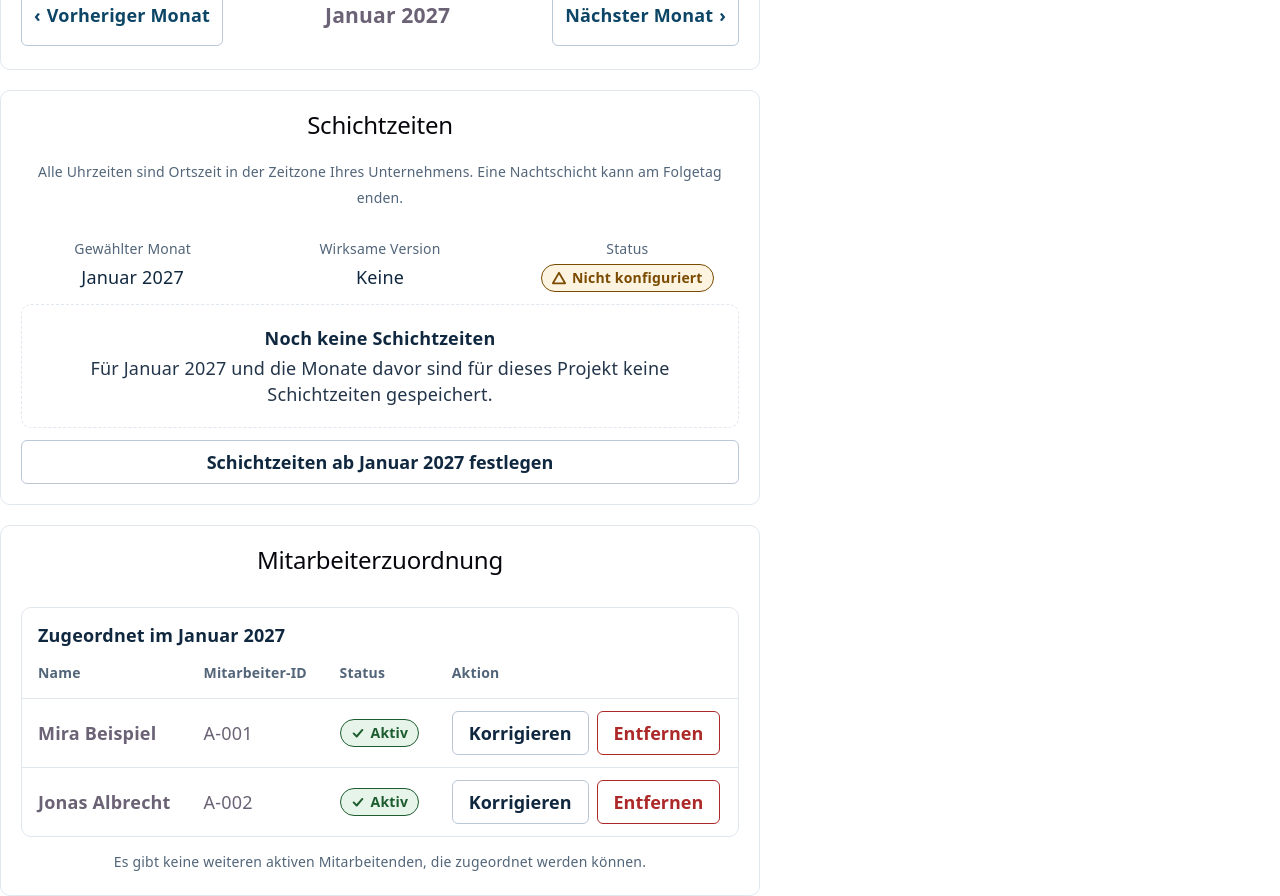
Test: #73 — refusals: explained, reloaded, never retried › 409 month has begun / planning data: own message, the month is read again, exactly one DELETE and no retry button
(page scrolled)
Click the button with aria-label "Zuordnung von Mira Beispiel entfernen". click: (658, 733)
box: left=596, top=711, right=720, bottom=755
(page scrolled)
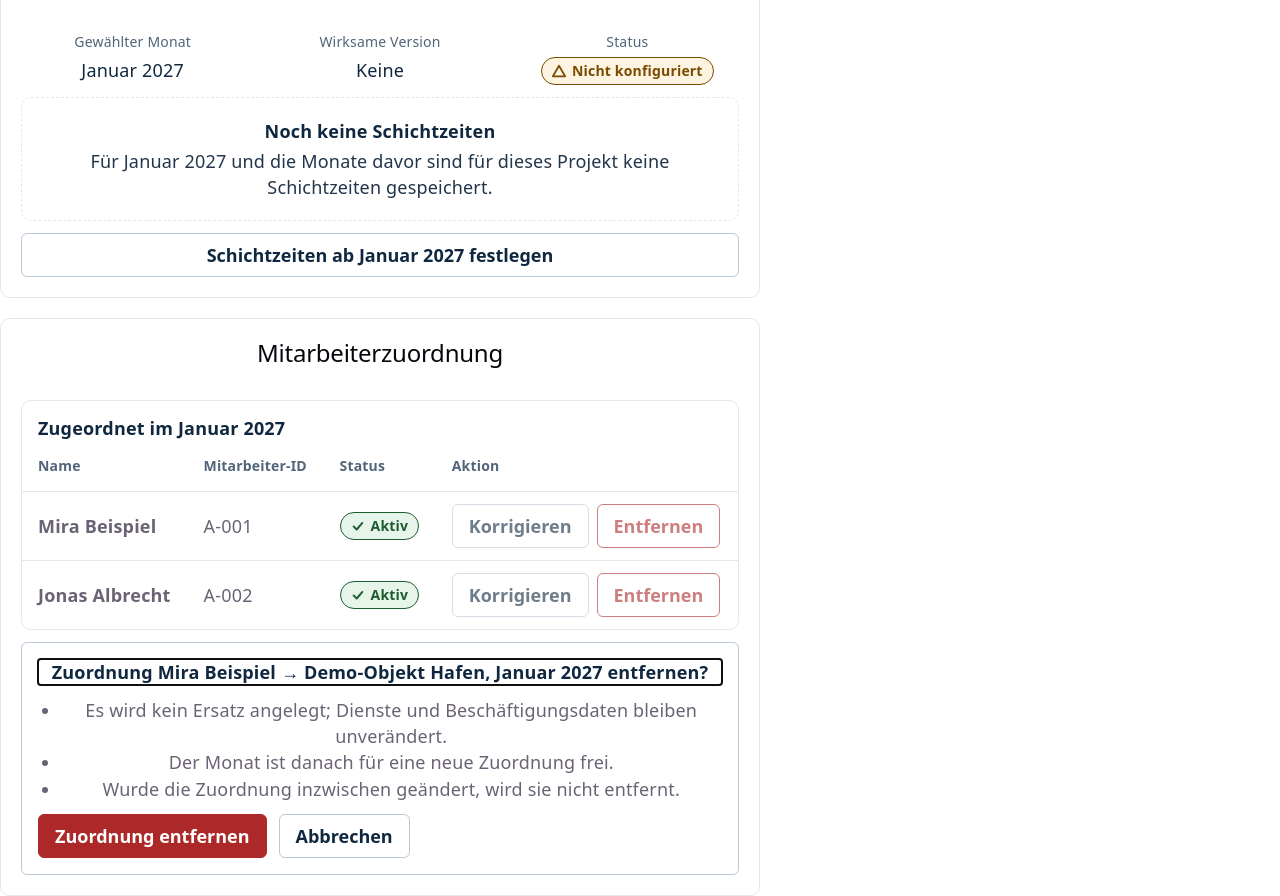
Click the button "Zuordnung entfernen". click: (152, 836)
box: left=38, top=814, right=266, bottom=858
(page scrolled)
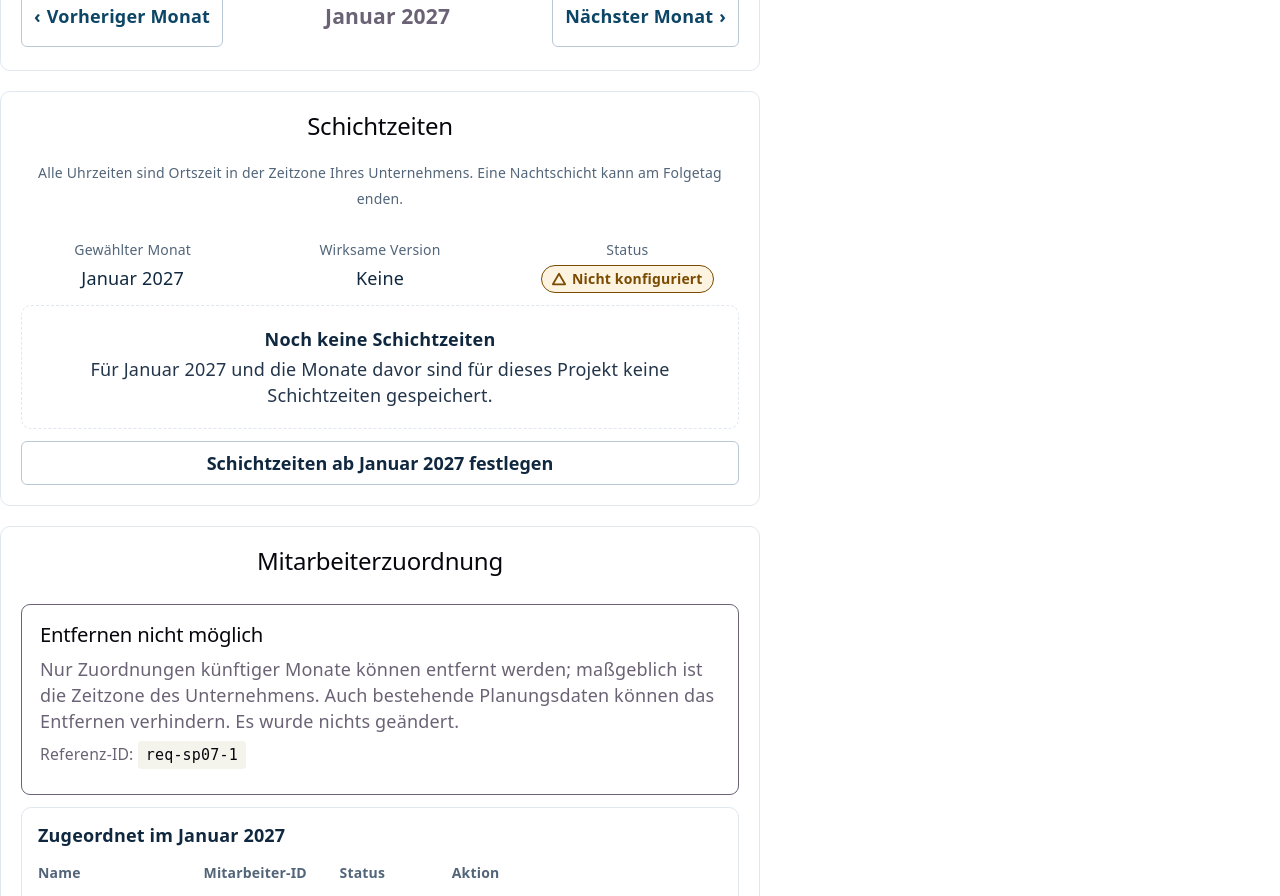
Expected: the message shows "Entfernen nicht möglich", left=40, top=620, right=263, bottom=648
Expected: the message shows "Zeitzone des Unternehmens", left=40, top=657, right=714, bottom=733
